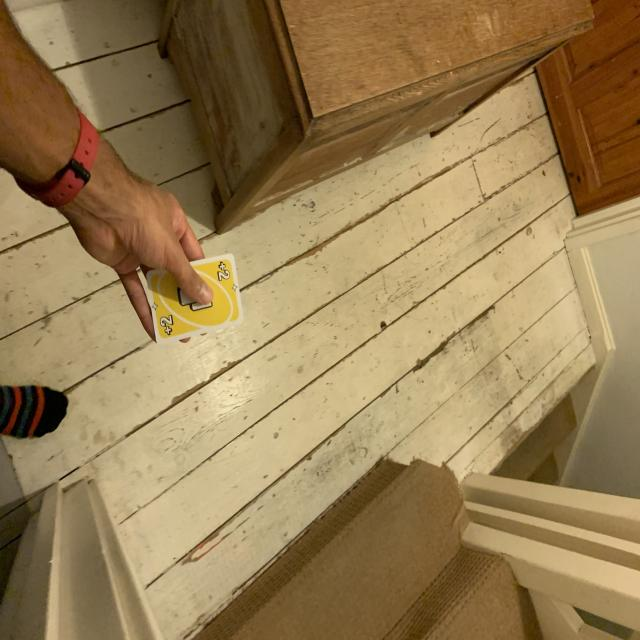lyellow-20: (212, 260, 234, 286)
